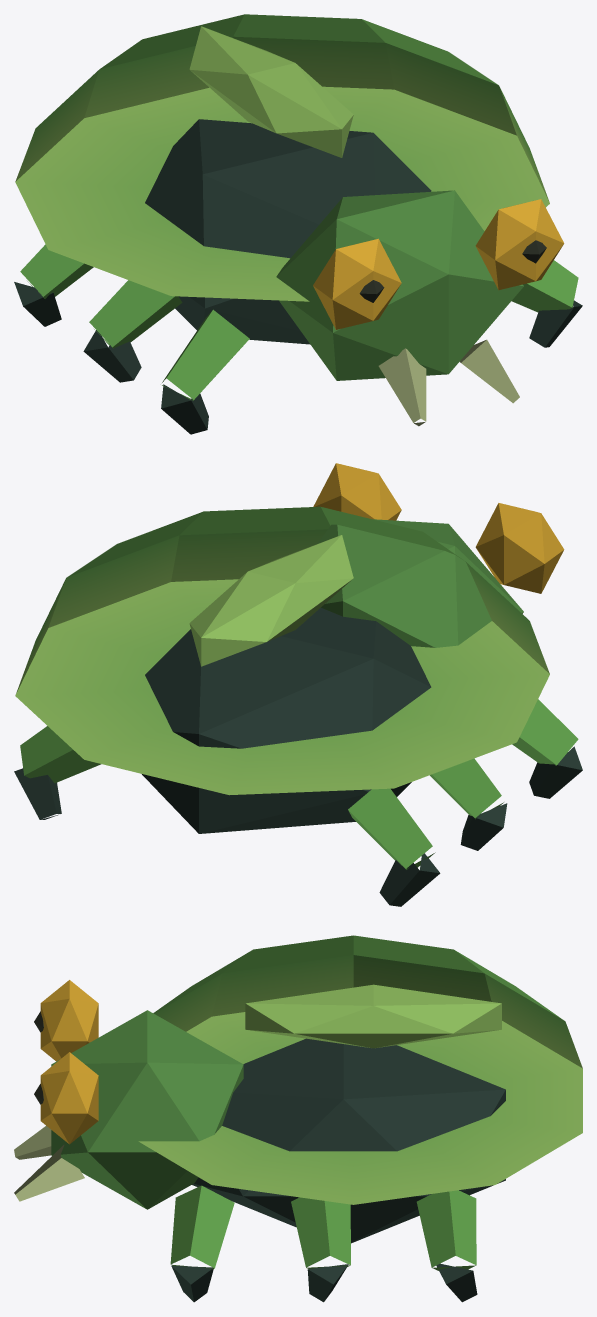
Rendered from crawler_v02-DL9R0v1x.glb.
3 renders of one model, top to bottom at view 1: azimuth 30°, elevation 25°; view 2: azimuth 150°, elevation 25°; view 3: azimuth 270°, elevation 25°, orthographic. The views are drawn at different scales.
Parts seen in each view (by area): view 1: world; view 2: world; view 3: world.
Part boxes in pixels (x1,y1,x2,y2): world: (14,14,582,434); world: (14,463,582,906); world: (14,935,582,1302).
Bounding box in the file's own units: 0.98 × 0.5537 × 1.13.
